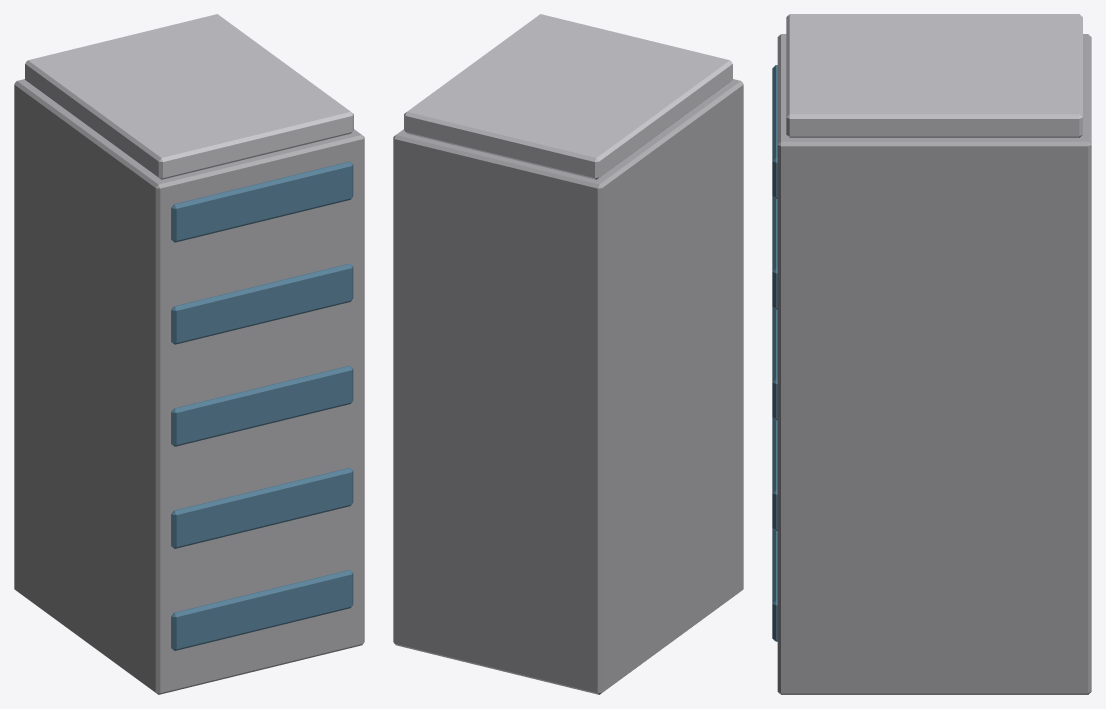
File: office.fbx
The picture shows the model from 3 angles, left to right: view 1: azimuth 30°, elevation 25°; view 2: azimuth 150°, elevation 25°; view 3: azimuth 270°, elevation 25°; orthographic projection. The views are drawn at different scales.
Visible parts, largest first — view 1: office; view 2: office; view 3: office.
Part boxes in pixels (x1,y1,x2,y2): office: (14,14,364,694); office: (393,14,743,694); office: (772,14,1091,694).
Bounding box in the file's own units: 15 × 36.5 × 18.3.
